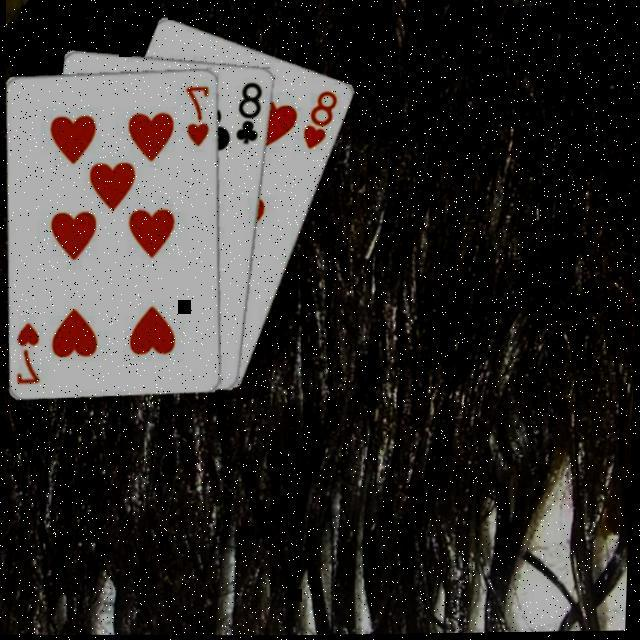7H: (183, 81, 215, 148), (15, 318, 47, 385)
8C: (234, 77, 267, 145)
8H: (302, 85, 344, 152)
